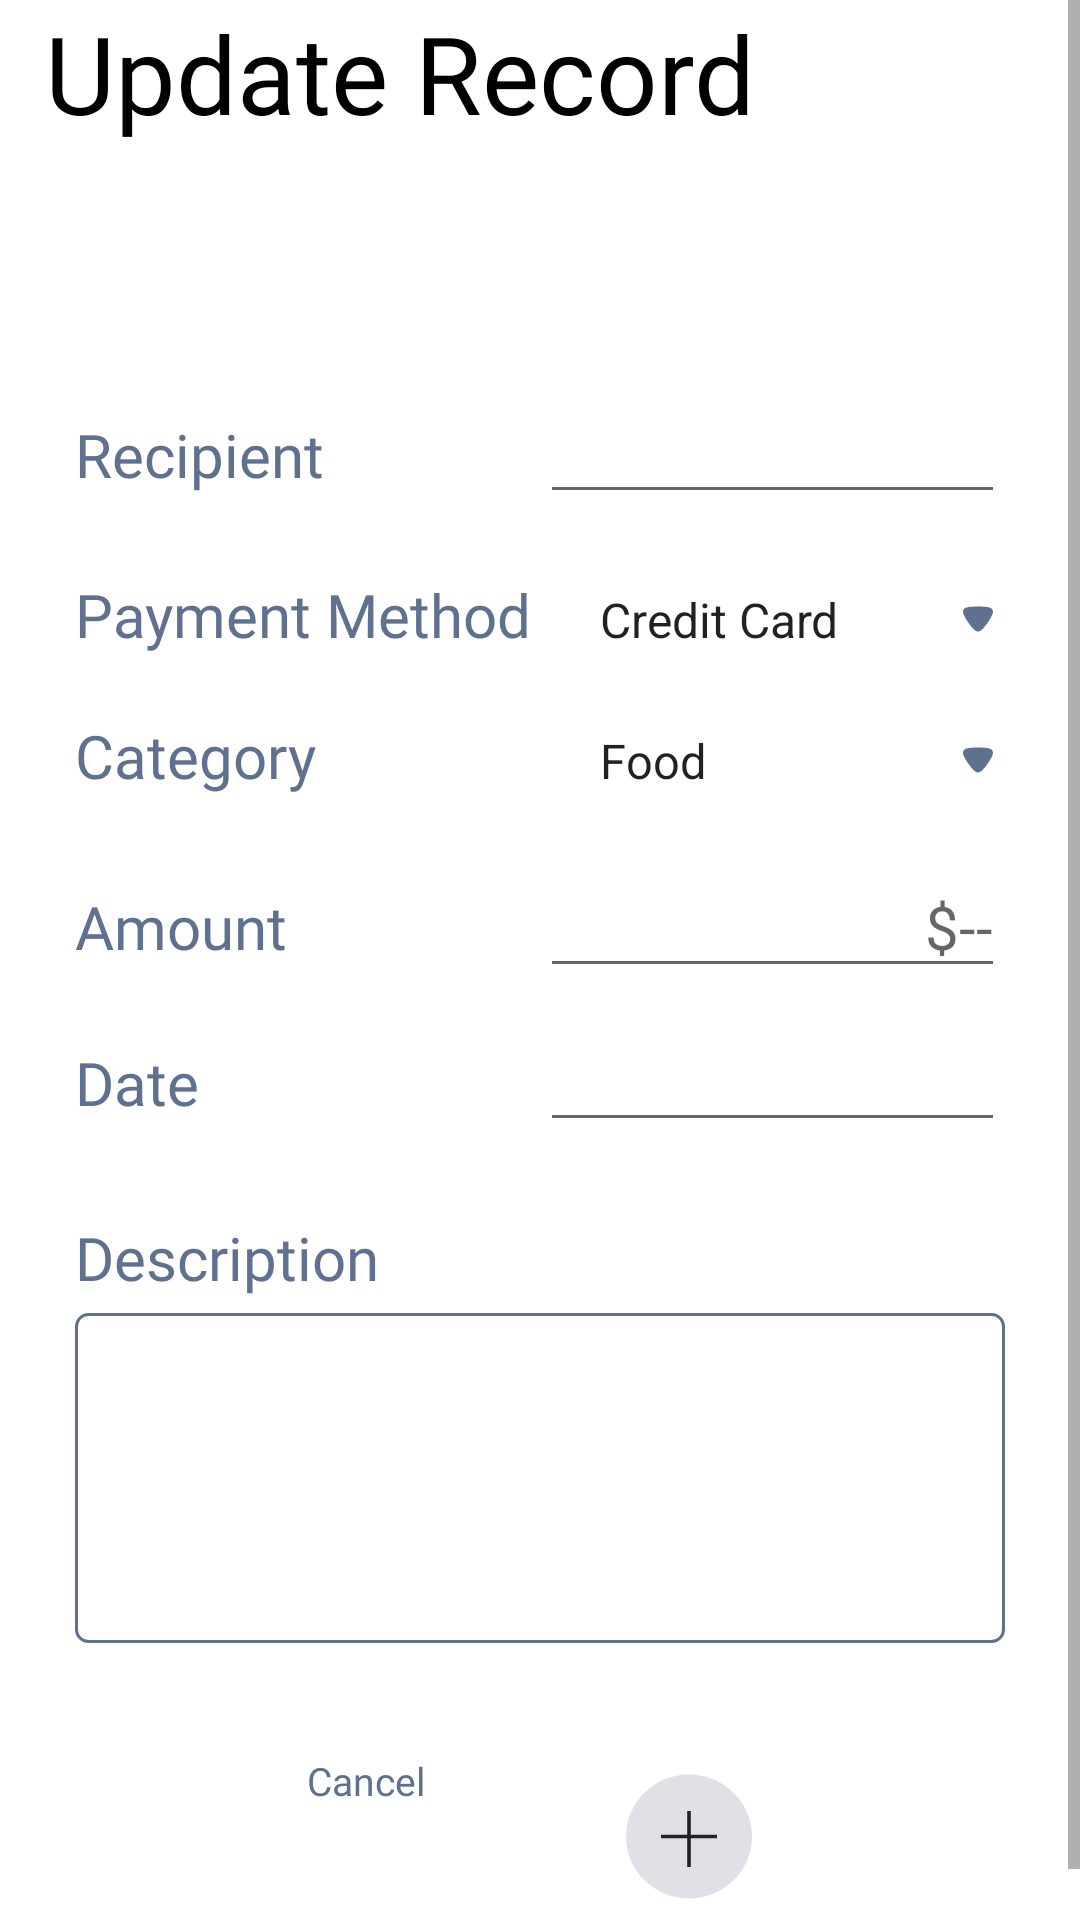

Icon bounding boxes for this 1080 × 1920 phone screenshot, format (x1, y1, x2, y2):
plus: (626, 1775, 752, 1898)
